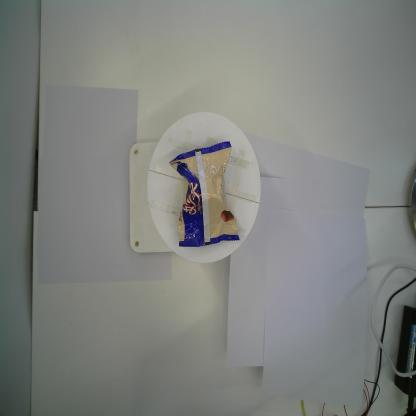Dessert: (167, 139, 242, 250)
